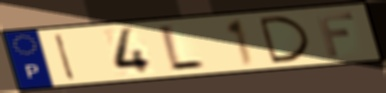1: (225, 16, 256, 68)
4: (111, 26, 155, 77)
D: (255, 15, 314, 65)
F: (313, 11, 357, 59)
I: (53, 32, 78, 82)
L: (155, 23, 208, 74)
